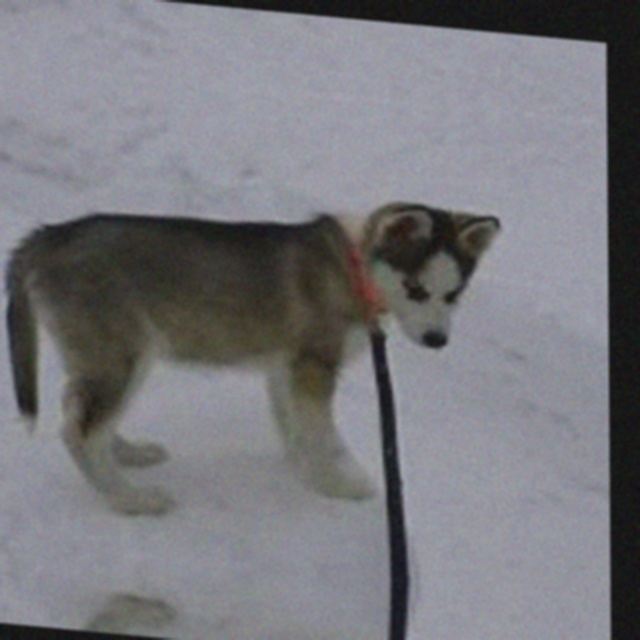dog: (0, 140, 525, 566), (0, 567, 527, 640)
